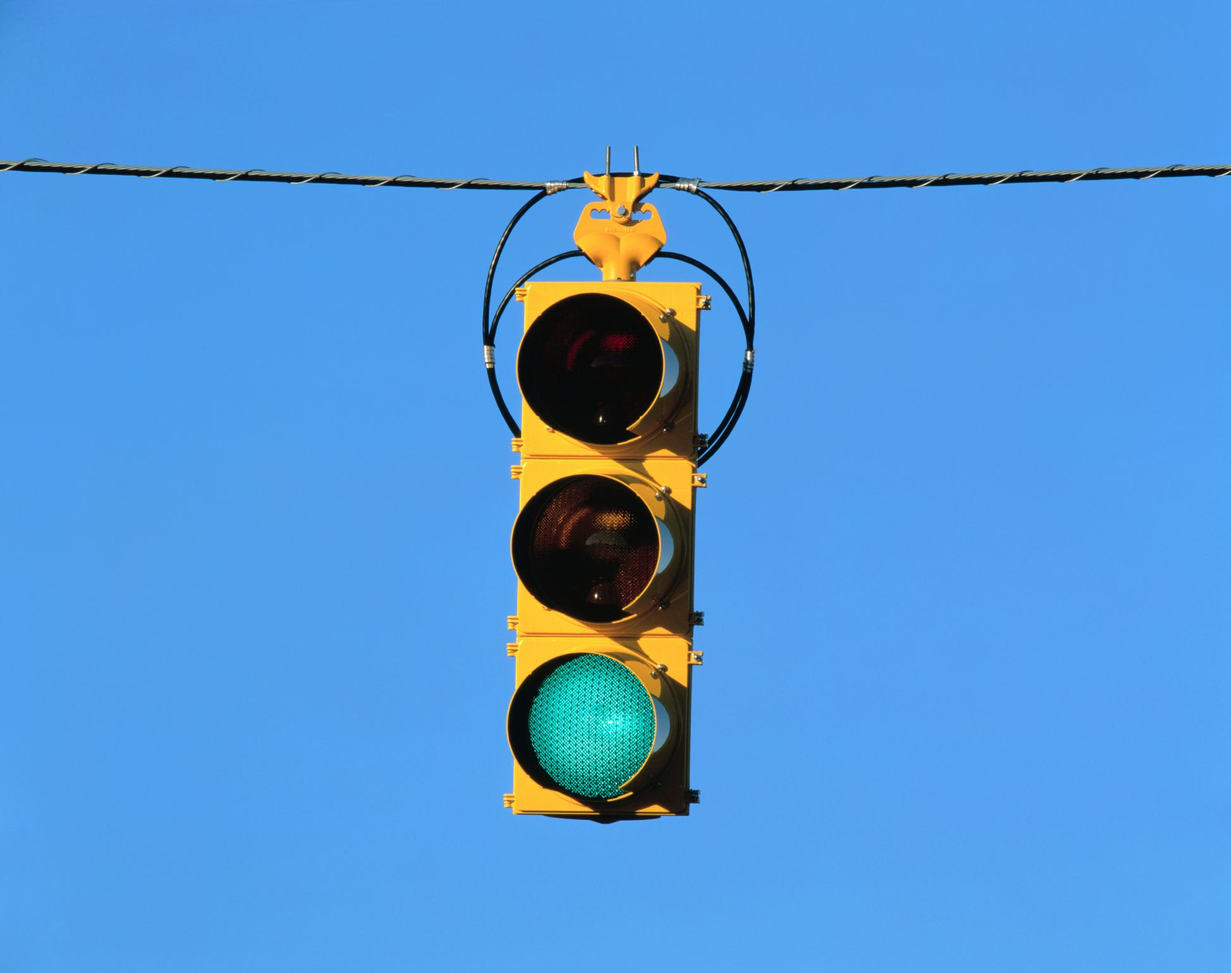TraficLight: (473, 149, 793, 860)
